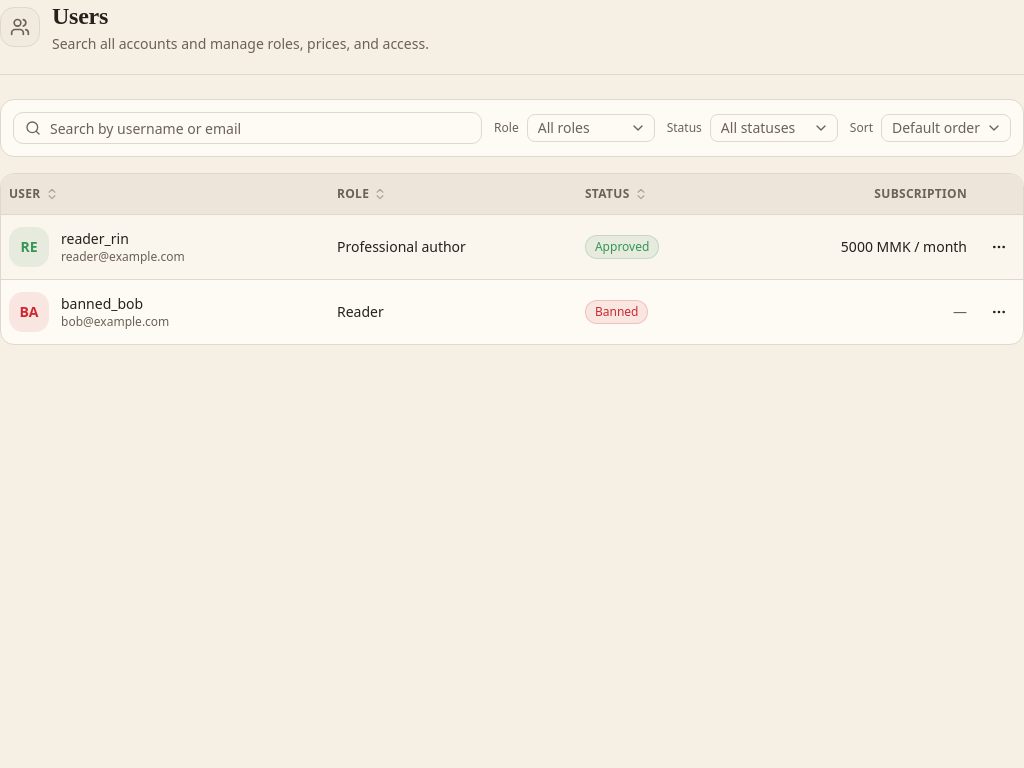
Test: UsersManagementPage › requires a reason and sends { ban, reason } when suspending
The image size is (1024, 768).
Click the button named "Actions" in the row of "reader_rin" at (999,246), box x1=983 y1=230 x2=1015 y2=262
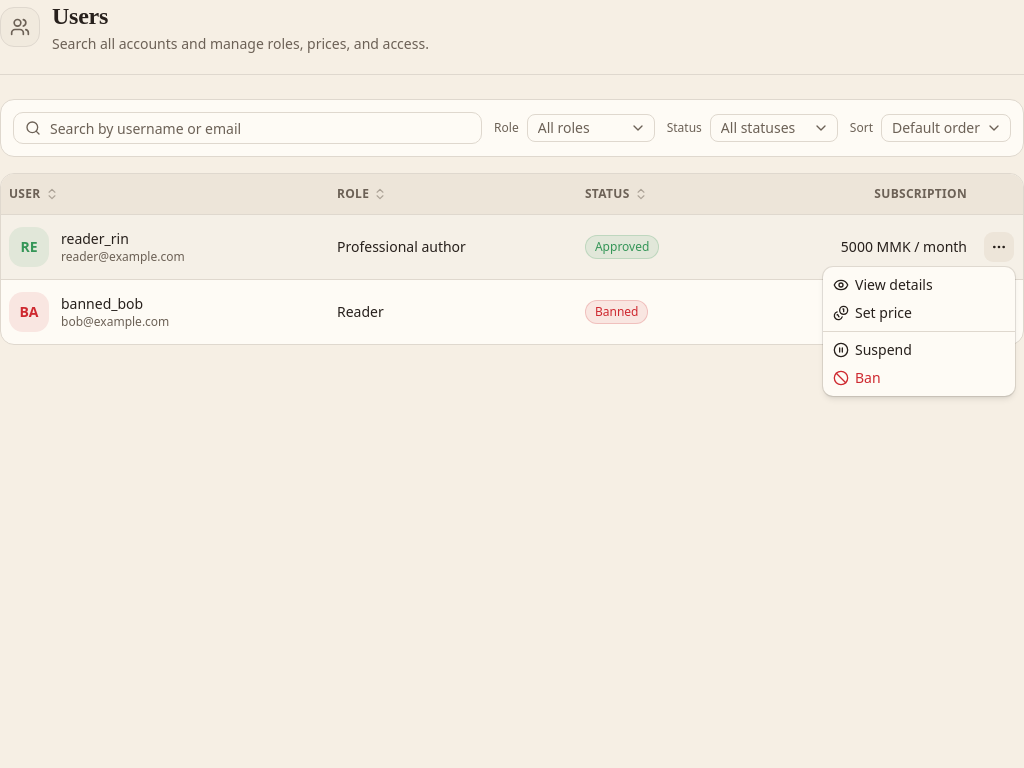
Click the menu item "Suspend" at (872,350), box x1=833 y1=340 x2=912 y2=359
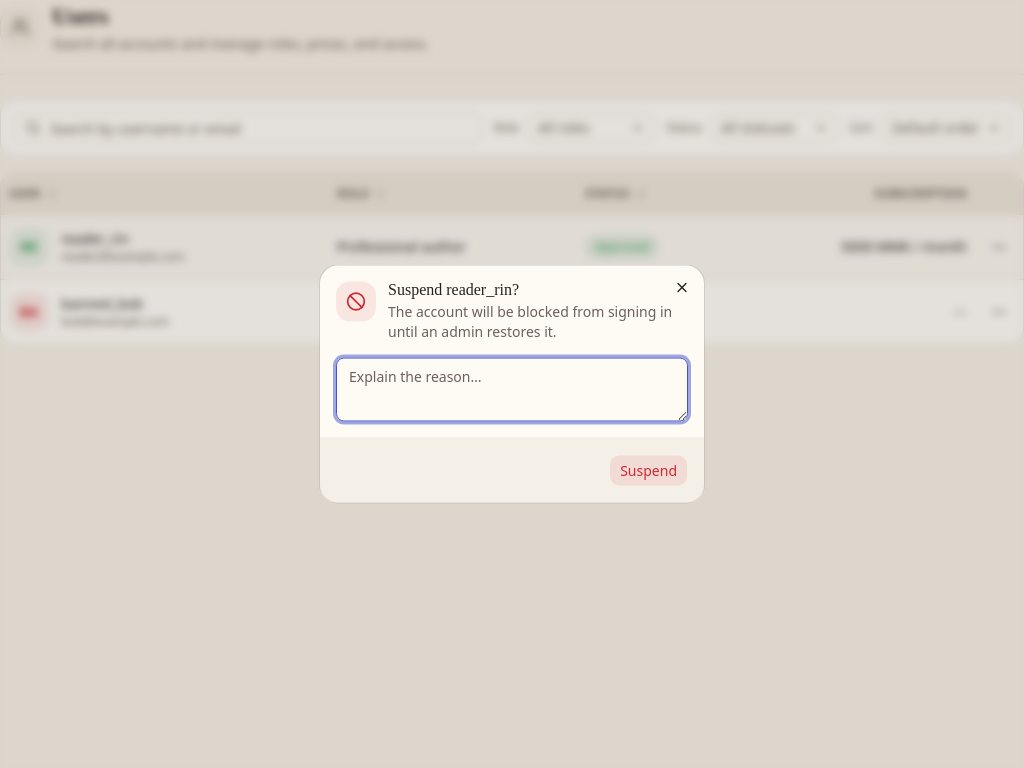
Click the button "Suspend" at (649,470), box x1=609 y1=454 x2=688 y2=486
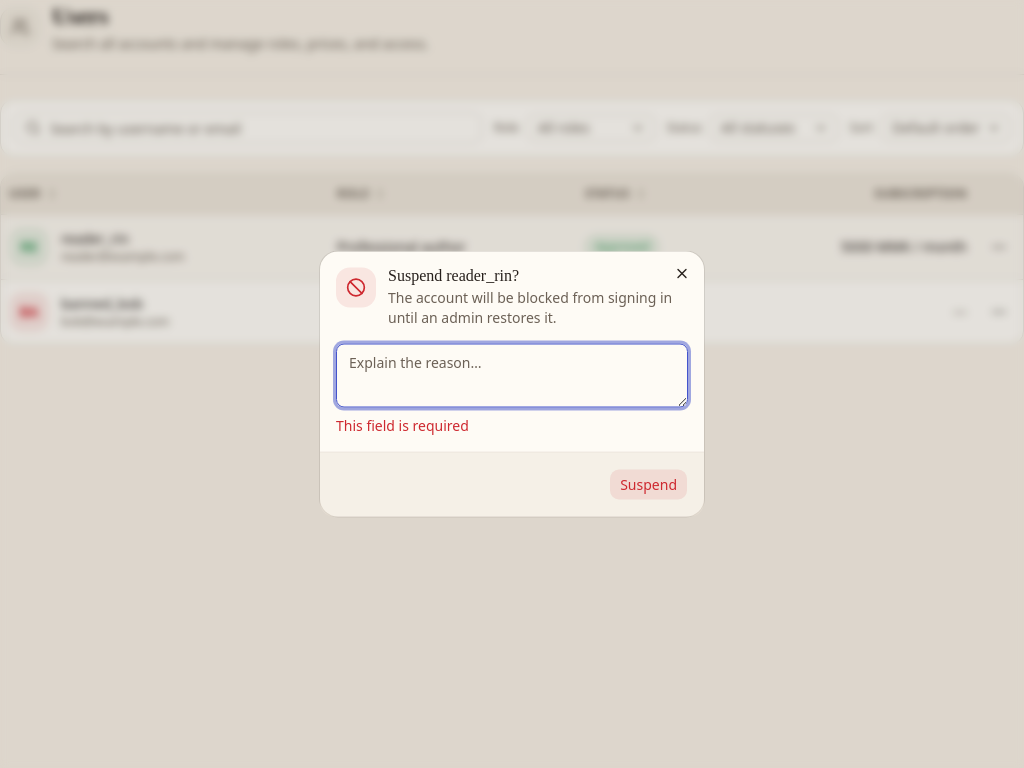
Type "Posting spam" into the text box labelled "reason" at (512,376), box x1=336 y1=344 x2=688 y2=408
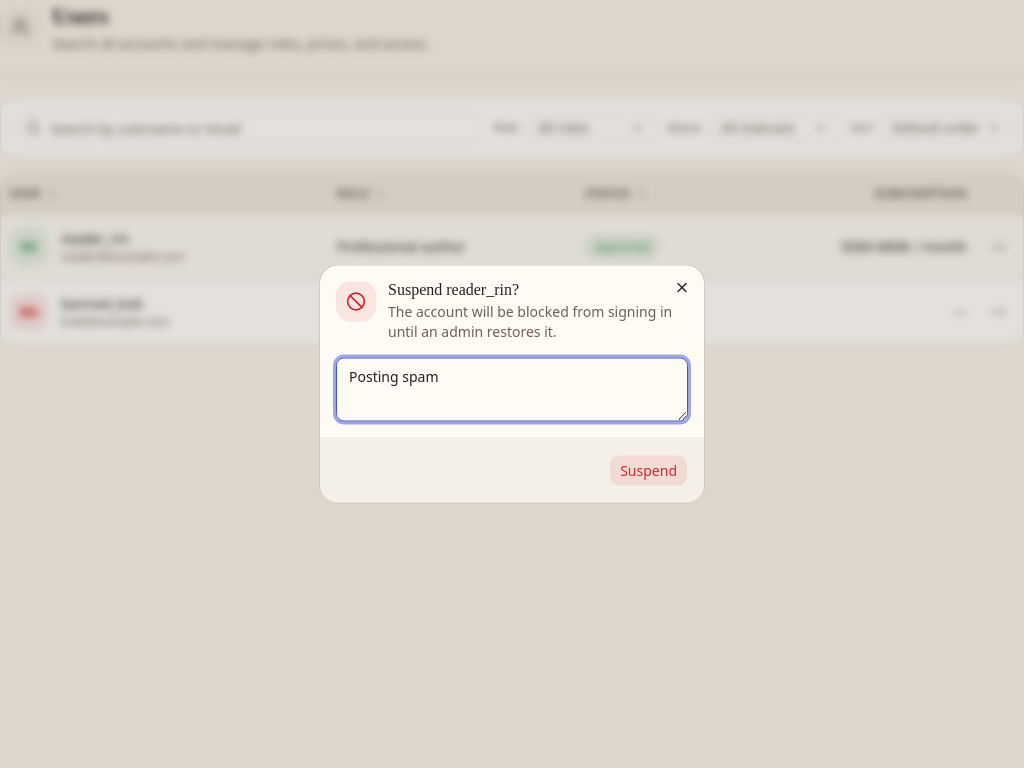
Click the button "Suspend" at (649,470), box x1=609 y1=454 x2=688 y2=486
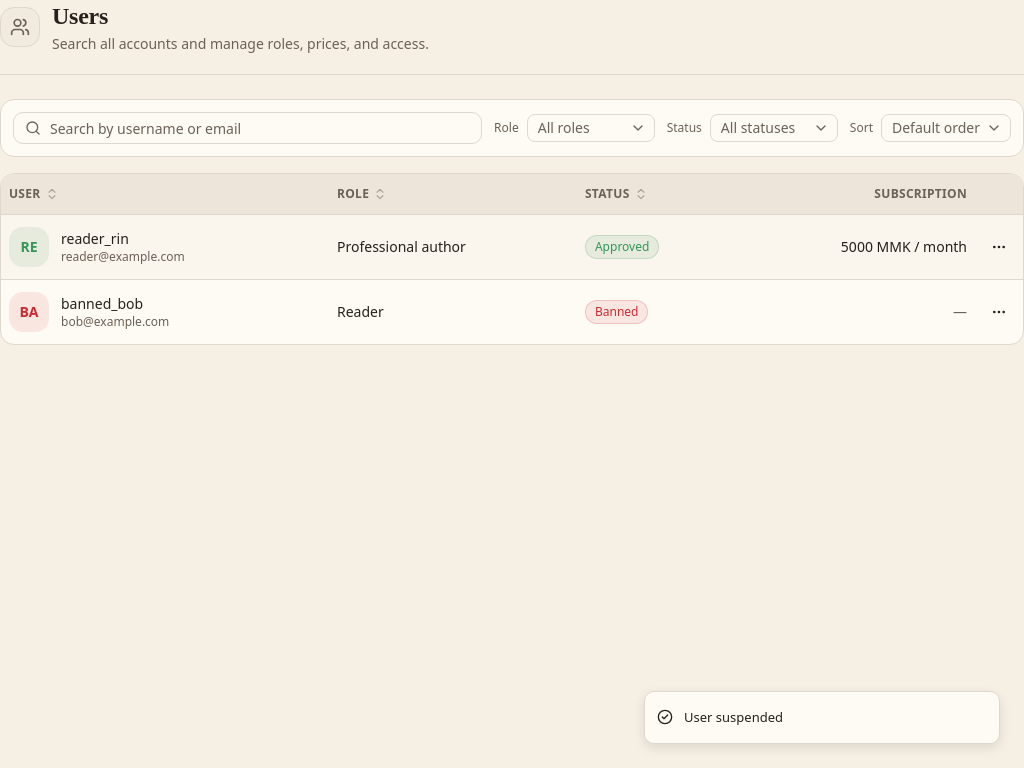
Result: the text "User suspended" is shown at x1=684 y1=708 x2=783 y2=727
